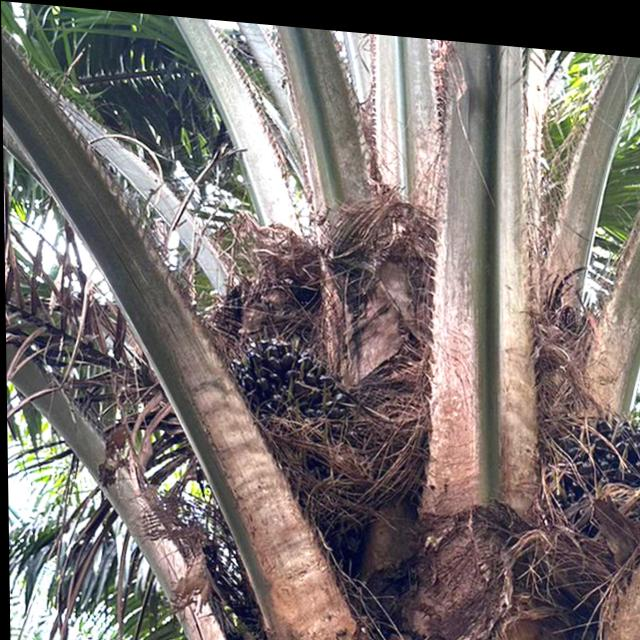ripe: (224, 313, 343, 435), (537, 395, 640, 521)
